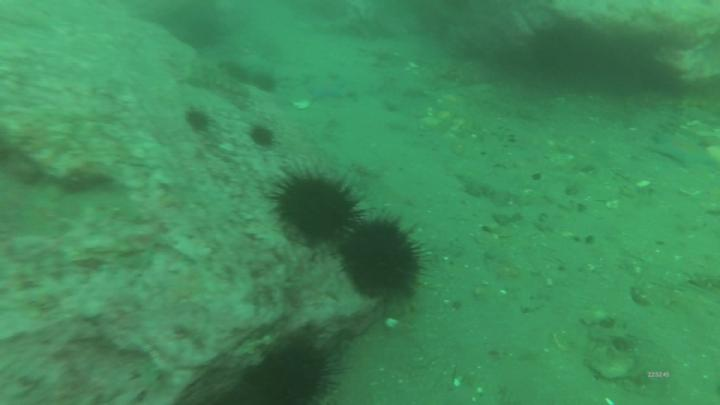echinus: (342, 218, 418, 298), (272, 175, 357, 245), (252, 344, 330, 402), (187, 110, 208, 133), (252, 128, 273, 148)
starfish: (652, 134, 715, 168)
